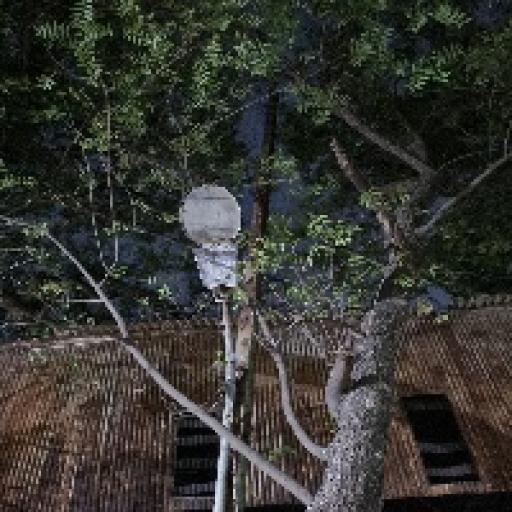Not Working: (164, 171, 266, 308)
